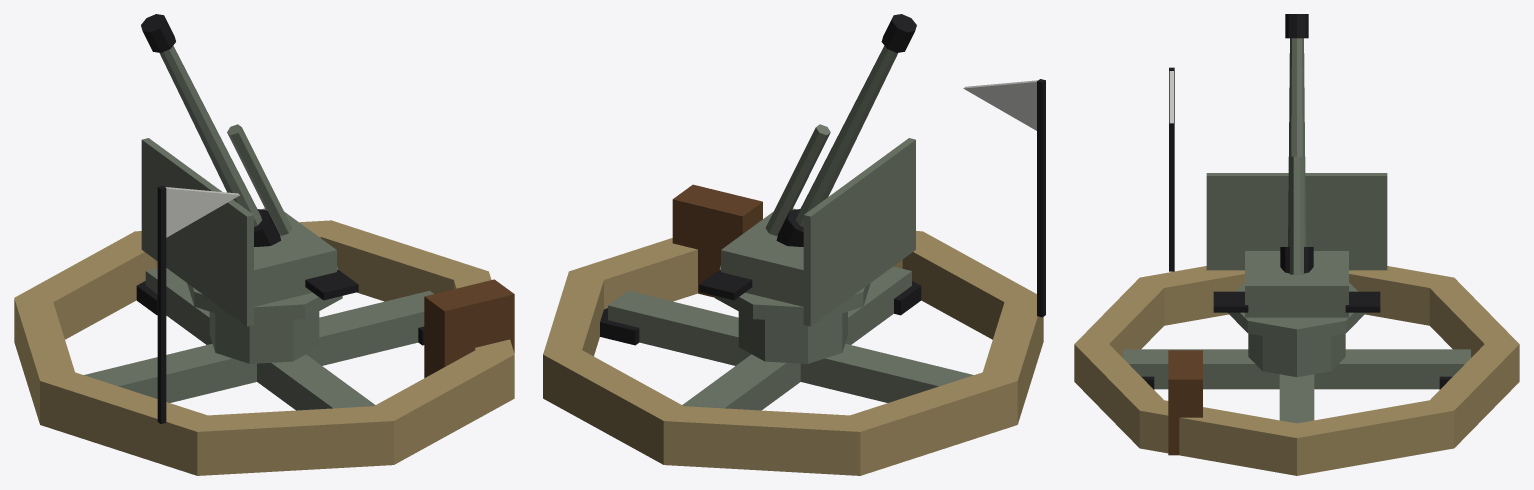
Rendered from flak_gun.glb.
3 renders of one model, left to right at view 1: azimuth 30°, elevation 25°; view 2: azimuth 150°, elevation 25°; view 3: azimuth 270°, elevation 25°, orthographic. The views are drawn at different scales.
Parts seen in each view (by area): view 1: FlakGun; view 2: FlakGun; view 3: FlakGun.
Part boxes in pixels (x1,y1,x2,y2): FlakGun: [14, 14, 514, 475]; FlakGun: [543, 14, 1045, 475]; FlakGun: [1074, 14, 1519, 475].
Size of the model in its own units: 6.4 by 5.17 by 6.4.
